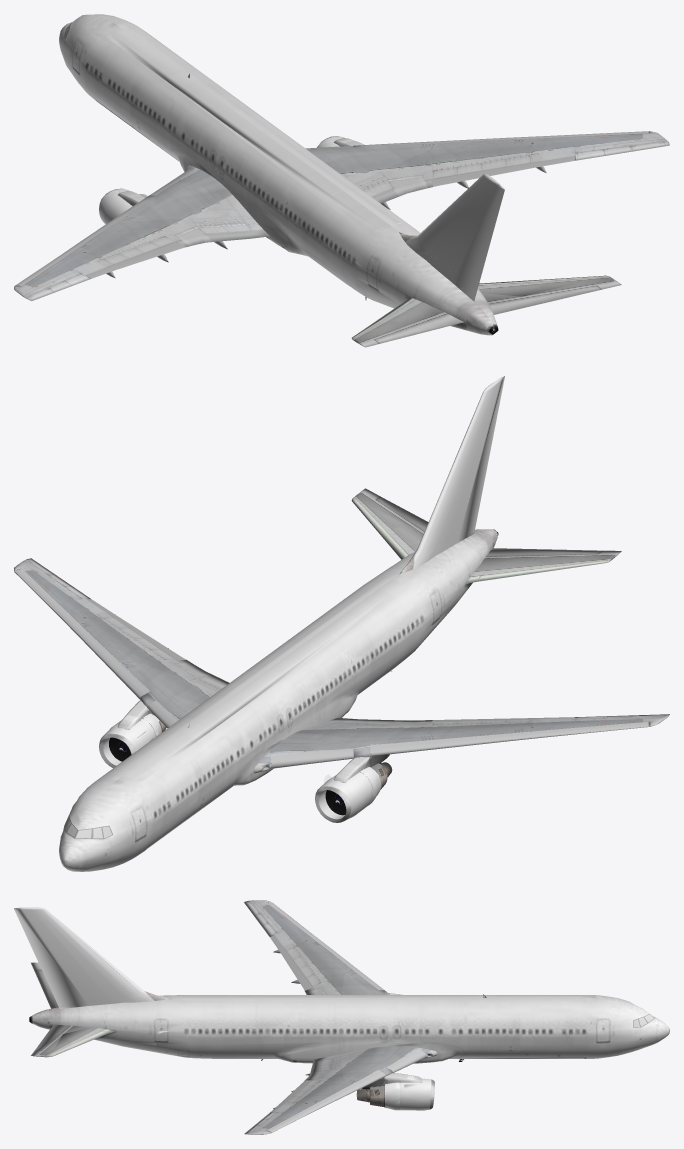
3 renders of one model, top to bottom at view 1: azimuth 30°, elevation 25°; view 2: azimuth 150°, elevation 25°; view 3: azimuth 270°, elevation 25°, orthographic. The views are drawn at different scales.
Visible parts, largest first — view 1: VStab, enginerear, speedbrakel, LFflapwing2, LdoorNoseGear; view 2: VStab, enginerear, speedbrakel, LFflapwing2, LdoorNoseGear; view 3: VStab, enginerear, LdoorNoseGear, LFflapwing2, speedbrakel.
Part boxes in pixels (x1,y1,x2,y2): VStab: (59,14,504,335); enginerear: (14,131,669,300); speedbrakel: (351,275,621,347); LFflapwing2: (15,131,648,285); LdoorNoseGear: (99,136,504,297); VStab: (59,377,504,871); enginerear: (14,558,669,789); speedbrakel: (109,488,621,815); LFflapwing2: (14,569,648,768); LdoorNoseGear: (99,376,504,822); VStab: (14,907,669,1063); enginerear: (244,900,486,1134); LdoorNoseGear: (14,907,434,1110); LFflapwing2: (267,902,426,1132); speedbrakel: (31,962,114,1057).
Bounding box in the file's own units: 46.31 × 15.01 × 54.94.
Materials: 10 (4 with a texture image).
